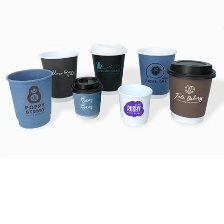paper_cup: (163, 55, 218, 129), (2, 64, 56, 132), (35, 45, 82, 105), (134, 43, 179, 102), (87, 38, 128, 98), (115, 81, 155, 130), (67, 74, 105, 121)
